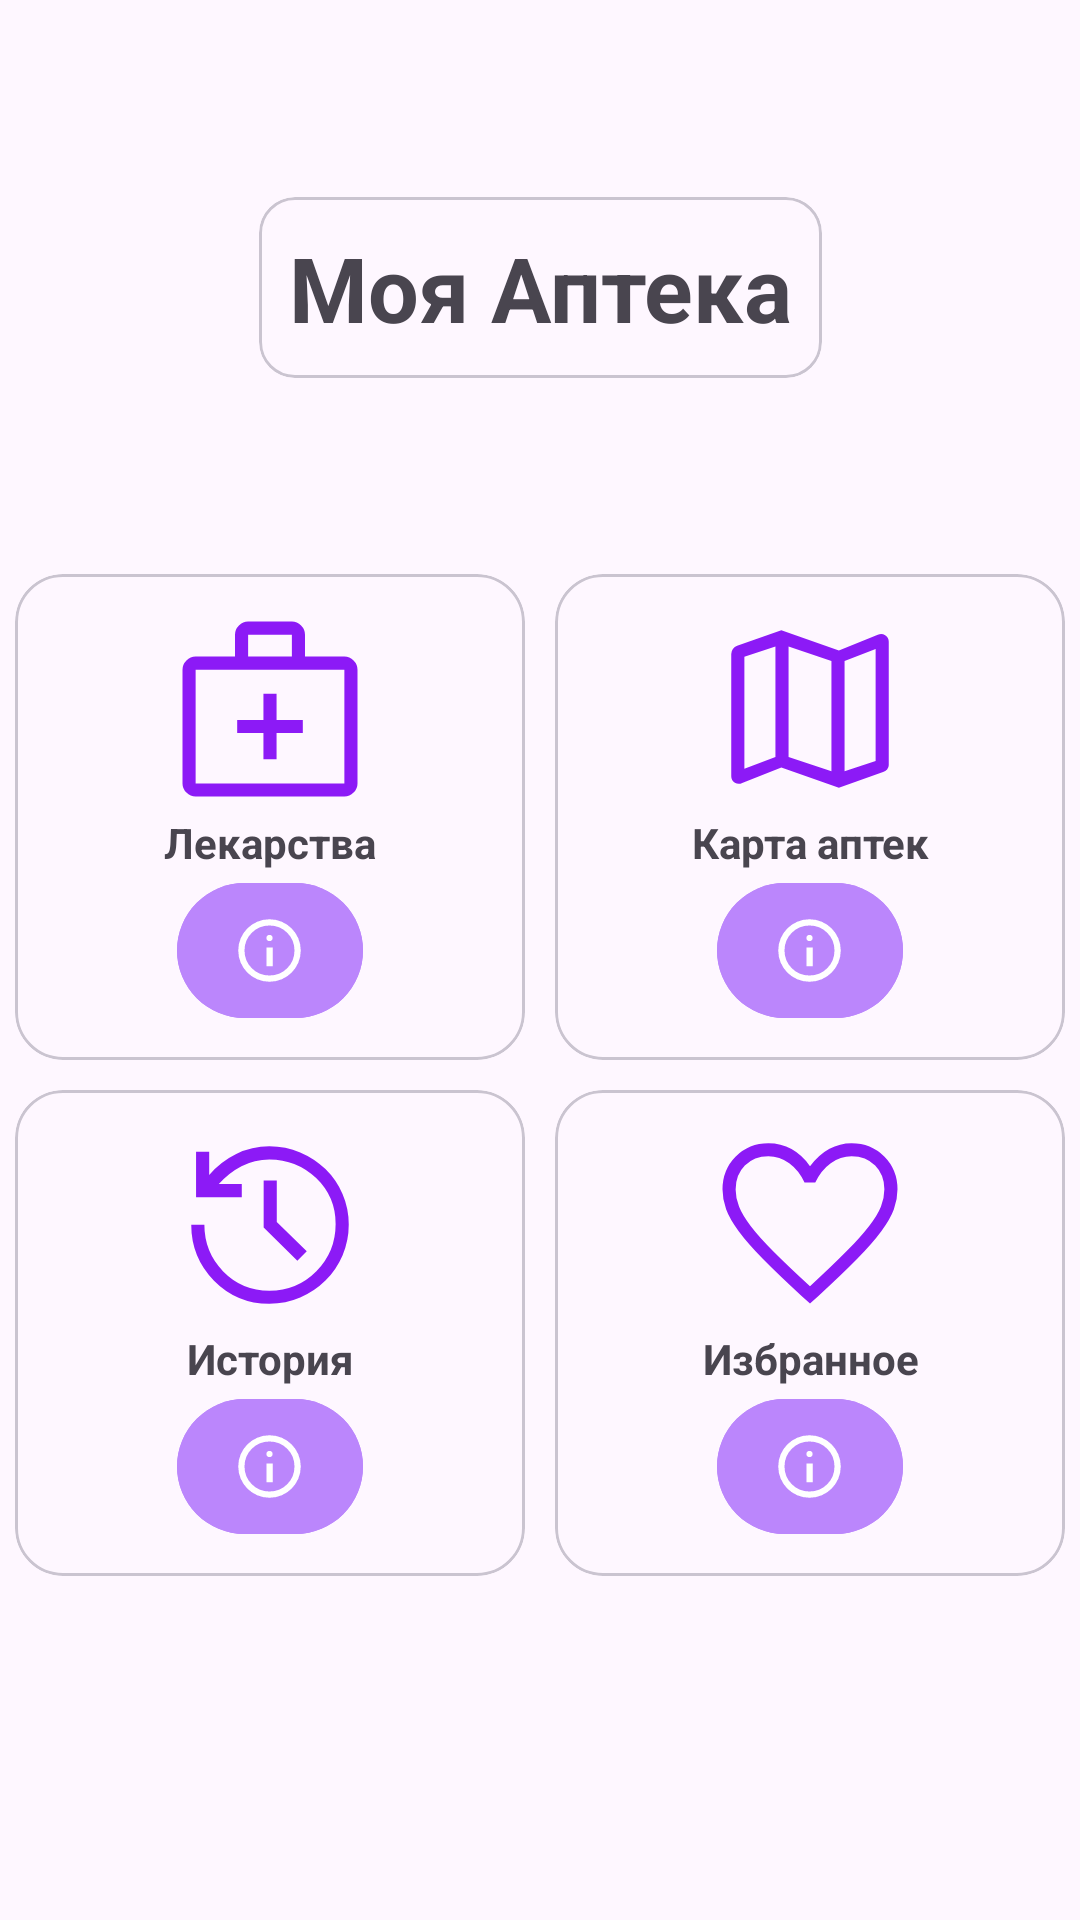

Screen size 1080px x 1920px. Icon name, then its box in pixels as (x1, y1, x2, y2):
info: (177, 883, 363, 1018), (717, 883, 903, 1018), (177, 1399, 363, 1534), (717, 1399, 903, 1534)
